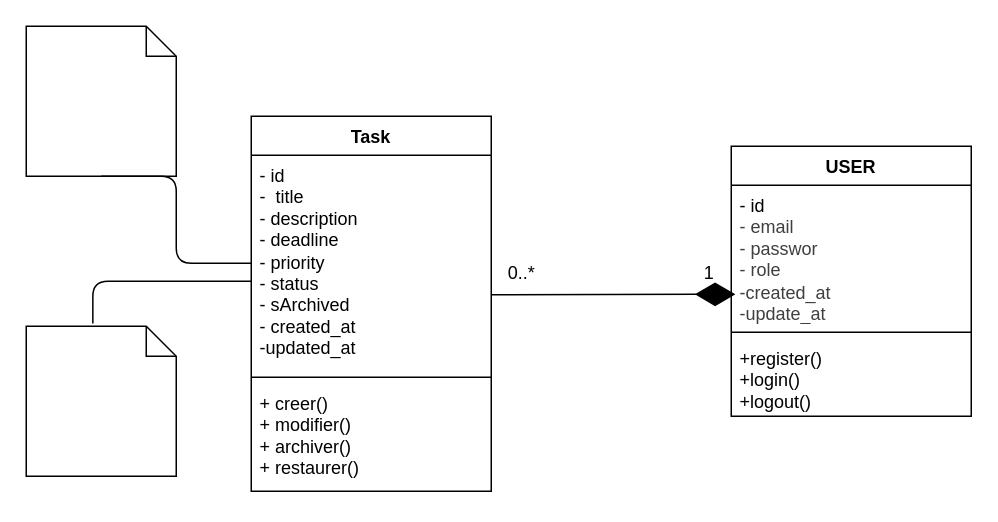
Image size: 998x522. Some labels were removed from this diagram. Each missing label, with the centre of its shape:
"Priority (enum) LOW MEDIUM HIGH" belongs at (100,100).
"Status (enum) TODO IN_PROGRESS DONE" belongs at (100,400).
